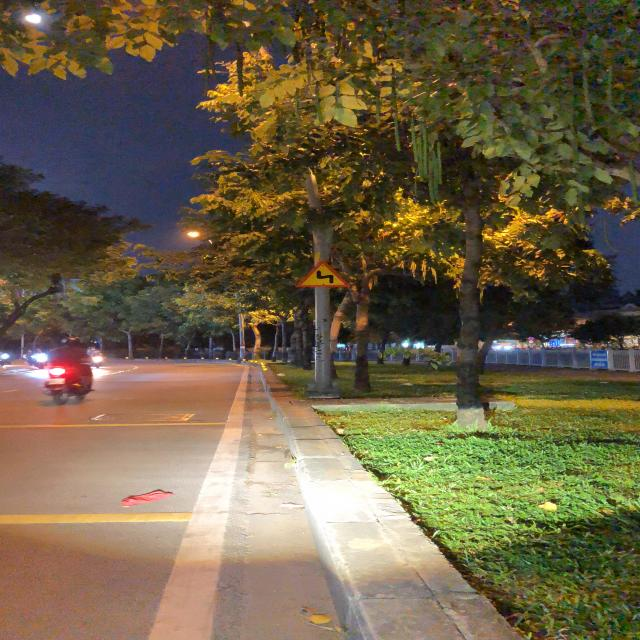Bien bao nhieu cho ngoat nguy hiem lien tiep: (293, 261, 352, 288)
